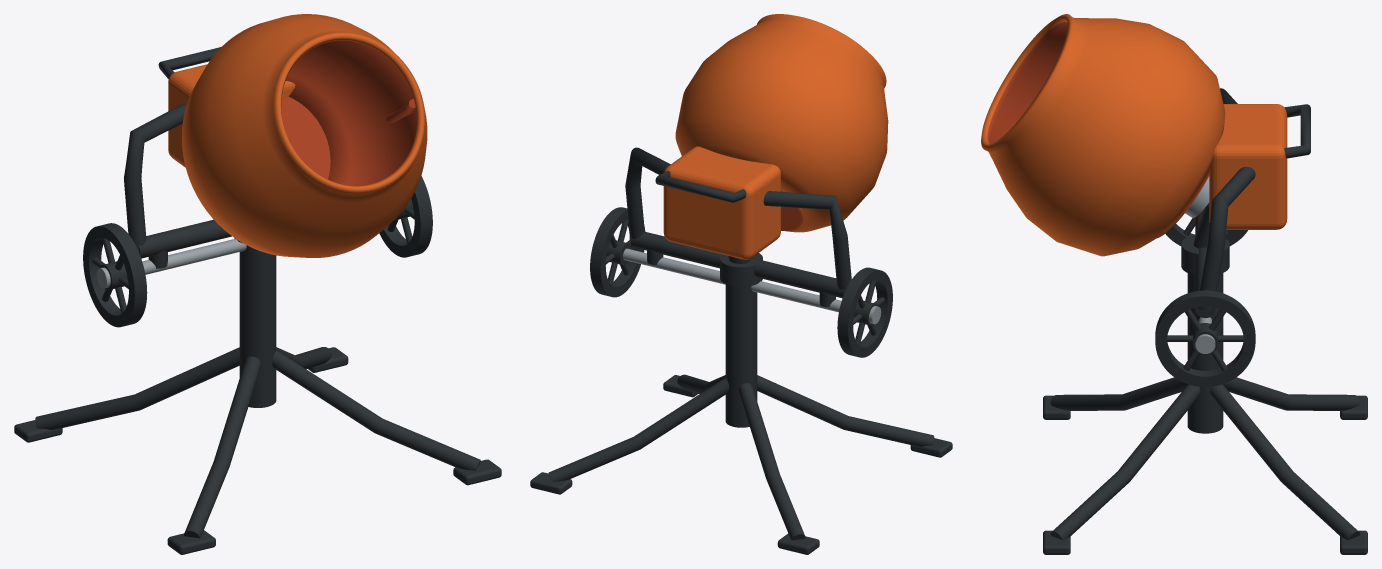
Rendered from A-NEW-20261026-DRUM-CONCRETE-MIXER-001_LOD0_R2.glb.
3 renders of one model, left to right at view 1: azimuth 30°, elevation 25°; view 2: azimuth 150°, elevation 25°; view 3: azimuth 270°, elevation 25°, orthographic. The views are drawn at different scales.
Parts seen in each view (by area): view 1: open drum continuous wall and rolled lip, stand central socket, splayed stand leg 3, splayed stand leg 1, open spoke wheel rim -1, splayed stand leg 2, side frame -1, closed rear drum disk, open spoke wheel rim 1, upper horizontal support, rear enclosed drive cover, wheel axle (+5 smaller); view 2: open drum continuous wall and rolled lip, rear enclosed drive cover, stand central socket, upper horizontal support, splayed stand leg 0, splayed stand leg 2, open spoke wheel rim -1, splayed stand leg 1, side frame -1, open spoke wheel rim 1, wheel axle, side frame 1 (+5 smaller); view 3: open drum continuous wall and rolled lip, rear enclosed drive cover, open spoke wheel rim 1, splayed stand leg 3, splayed stand leg 0, side frame 1, stand central socket, splayed stand leg 2, splayed stand leg 1, rear carrying handle, upper stand collar, upper horizontal support (+4 smaller).
Part boxes in pixels (box(x1,y1,x2,y2)): open drum continuous wall and rolled lip: box(181, 14, 427, 257); stand central socket: box(239, 245, 276, 407); splayed stand leg 3: box(272, 350, 480, 470); splayed stand leg 1: box(35, 347, 239, 429); open spoke wheel rim -1: box(83, 223, 147, 327); splayed stand leg 2: box(184, 356, 261, 538); side frame -1: box(124, 103, 186, 251); closed rear drum disk: box(281, 96, 330, 179); open spoke wheel rim 1: box(379, 176, 432, 257); upper horizontal support: box(138, 219, 231, 258); rear enclosed drive cover: box(168, 64, 295, 167); wheel axle: box(98, 239, 246, 285); open drum continuous wall and rolled lip: box(675, 14, 888, 232); rear enclosed drive cover: box(663, 146, 780, 259); stand central socket: box(725, 284, 757, 427); upper horizontal support: box(630, 231, 844, 298); splayed stand leg 0: box(548, 377, 729, 482); splayed stand leg 2: box(757, 375, 934, 446); open spoke wheel rim -1: box(837, 267, 892, 357); splayed stand leg 1: box(738, 383, 805, 540); side frame -1: box(763, 191, 851, 292); open spoke wheel rim 1: box(590, 207, 645, 297); wheel axle: box(623, 248, 879, 320); side frame 1: box(625, 147, 670, 239); open drum continuous wall and rolled lip: box(981, 14, 1225, 256); rear enclosed drive cover: box(1209, 104, 1287, 229); open spoke wheel rim 1: box(1155, 290, 1255, 386); splayed stand leg 3: box(1050, 384, 1200, 540); splayed stand leg 0: box(1210, 384, 1360, 540); side frame 1: box(1198, 166, 1255, 311); stand central socket: box(1187, 273, 1223, 433); splayed stand leg 2: box(1050, 377, 1187, 410); splayed stand leg 1: box(1223, 377, 1360, 410); rear carrying handle: box(1284, 104, 1310, 158); upper stand collar: box(1181, 235, 1229, 274); upper horizontal support: box(1195, 212, 1215, 318).
Bounding box in the file's own units: 0.97 × 1.36 × 1.04.
